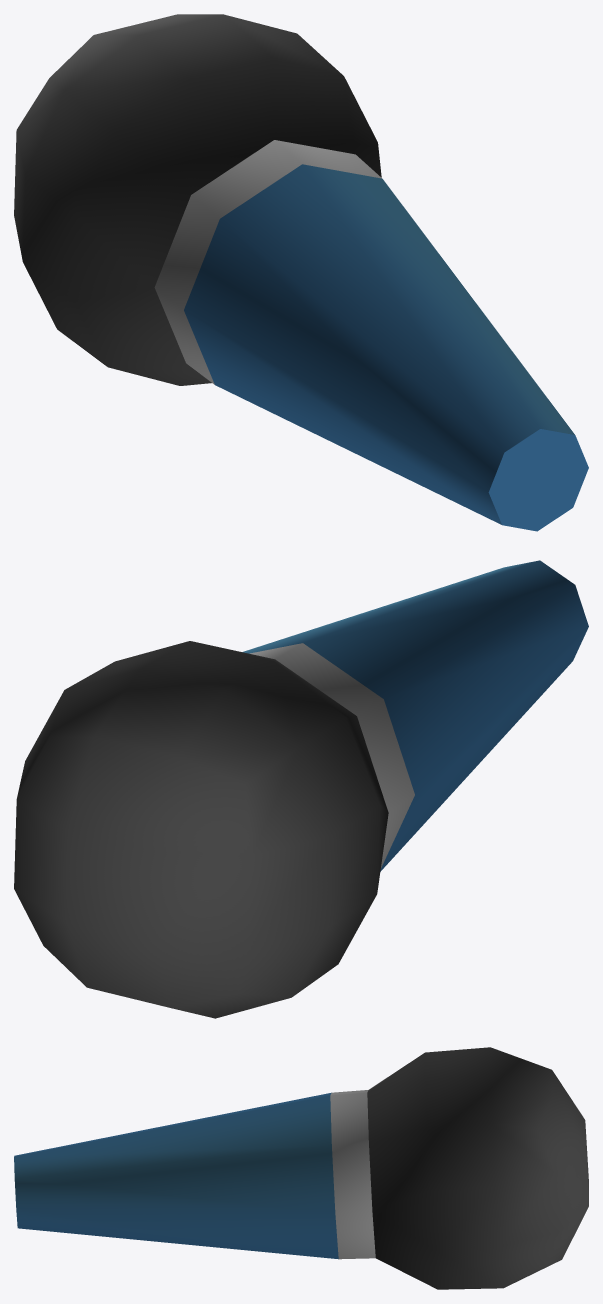
File: Microphone.fbx
3 views of the same model, one above another, from view 1: azimuth 30°, elevation 25°; view 2: azimuth 150°, elevation 25°; view 3: azimuth 270°, elevation 25° (orthographic). The views are drawn at different scales.
Parts seen in each view (by area): view 1: Microphone; view 2: Microphone; view 3: Microphone.
Part boxes in pixels (x1,y1,x2,y2): Microphone: (14,14,588,531); Microphone: (14,560,588,1018); Microphone: (14,1047,588,1289).
Size of the model in its own units: 11.36 by 11.42 by 27.66.
